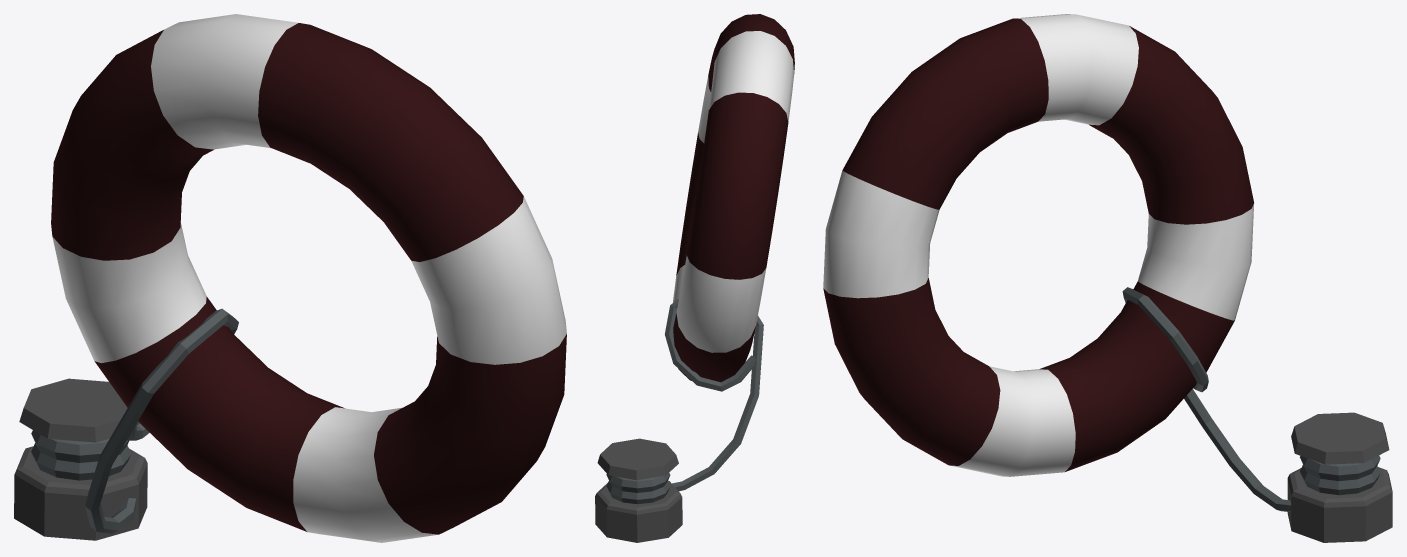
Rendered from Life-Preserver-Floaty-M00A.fbx.
3 renders of one model, left to right at view 1: azimuth 30°, elevation 25°; view 2: azimuth 150°, elevation 25°; view 3: azimuth 270°, elevation 25°, orthographic. The views are drawn at different scales.
Visible parts, largest first — view 1: Life-Preserver-Floaty-M00A; view 2: Life-Preserver-Floaty-M00A; view 3: Life-Preserver-Floaty-M00A.
Boxes of the visible parts, x1=… form: Life-Preserver-Floaty-M00A: x1=14, y1=14, x2=566, y2=542; Life-Preserver-Floaty-M00A: x1=595, y1=14, x2=794, y2=542; Life-Preserver-Floaty-M00A: x1=823, y1=14, x2=1392, y2=542.
Size of the model in its own units: 84.36 by 168 by 172.
